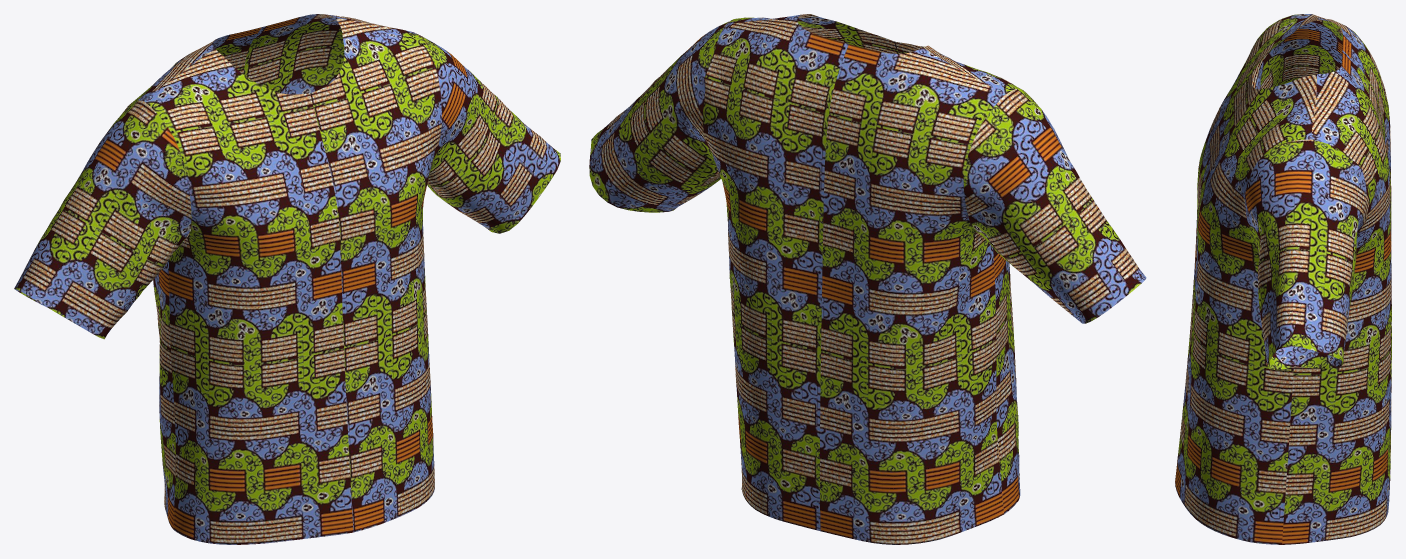
Rendered from Shirt2.glb.
3 renders of one model, left to right at view 1: azimuth 30°, elevation 25°; view 2: azimuth 150°, elevation 25°; view 3: azimuth 270°, elevation 25°, orthographic. The views are drawn at different scales.
Visible parts, largest first — view 1: shirt; view 2: shirt; view 3: shirt.
Part boxes in pixels (<box>): shirt: <box>14,14,560,544</box>; shirt: <box>589,14,1146,544</box>; shirt: <box>1175,14,1391,544</box>.
Bounding box in the file's own units: 3.83 × 3.15 × 1.39.
Materials: 1 (1 with a texture image).
